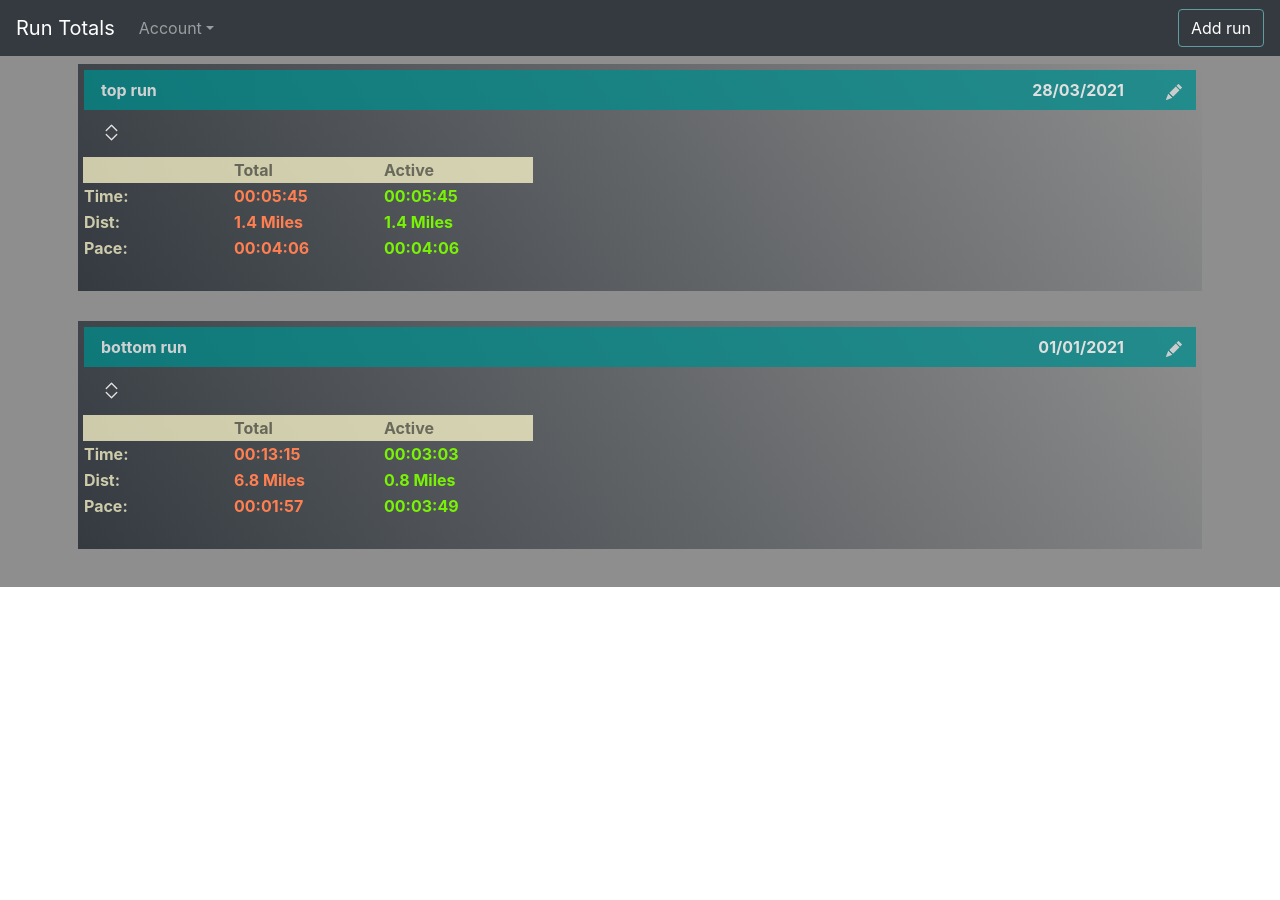
Runs Main: Edit run › Modal functionality › can edit the run description
Click the button named "Edit Run" next to "28/03/2021" at (1174, 90), box [1154,72,1194,108]
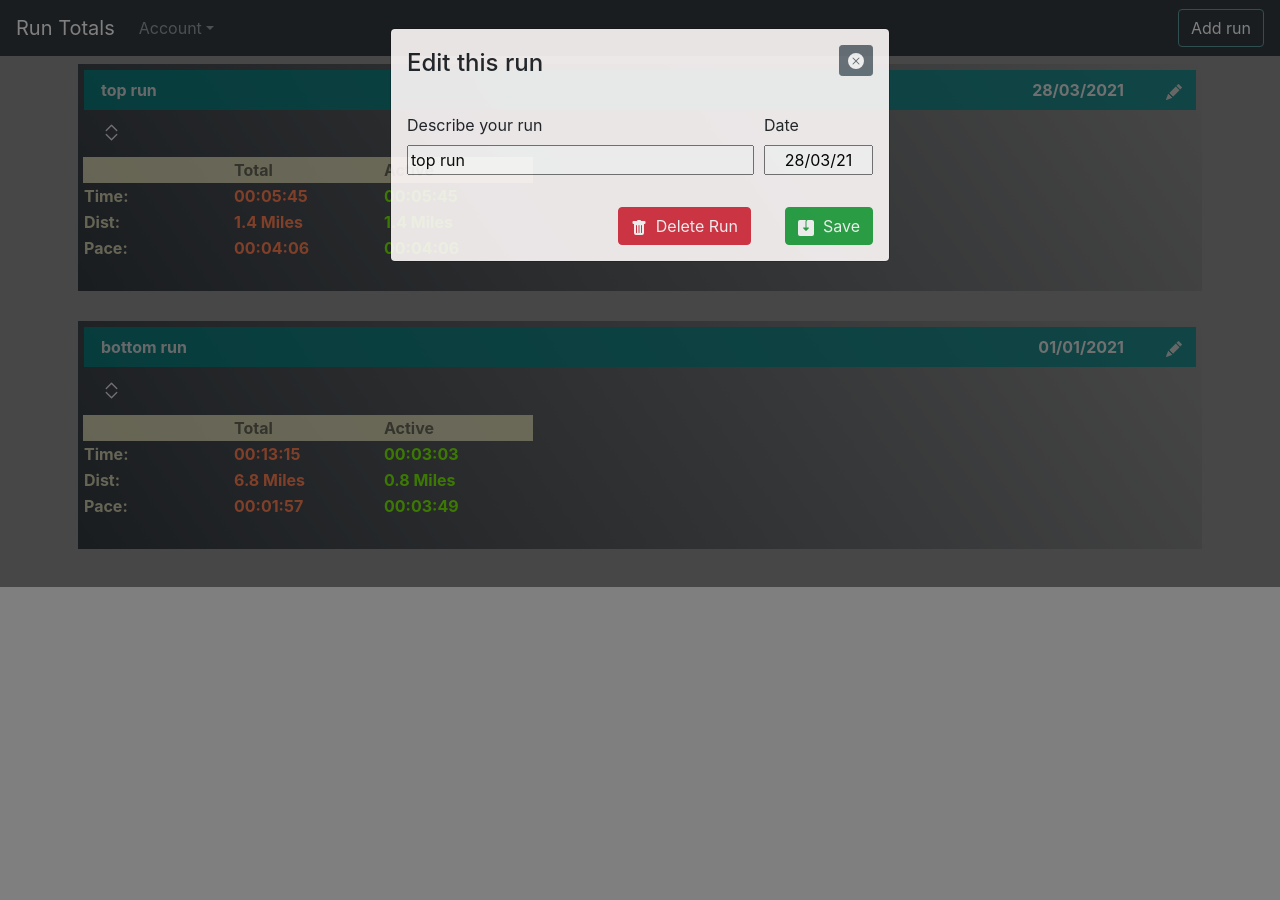
Type " updated" into the field with test id "edit-run-description-input" at (580, 160), box [407,145,754,175]
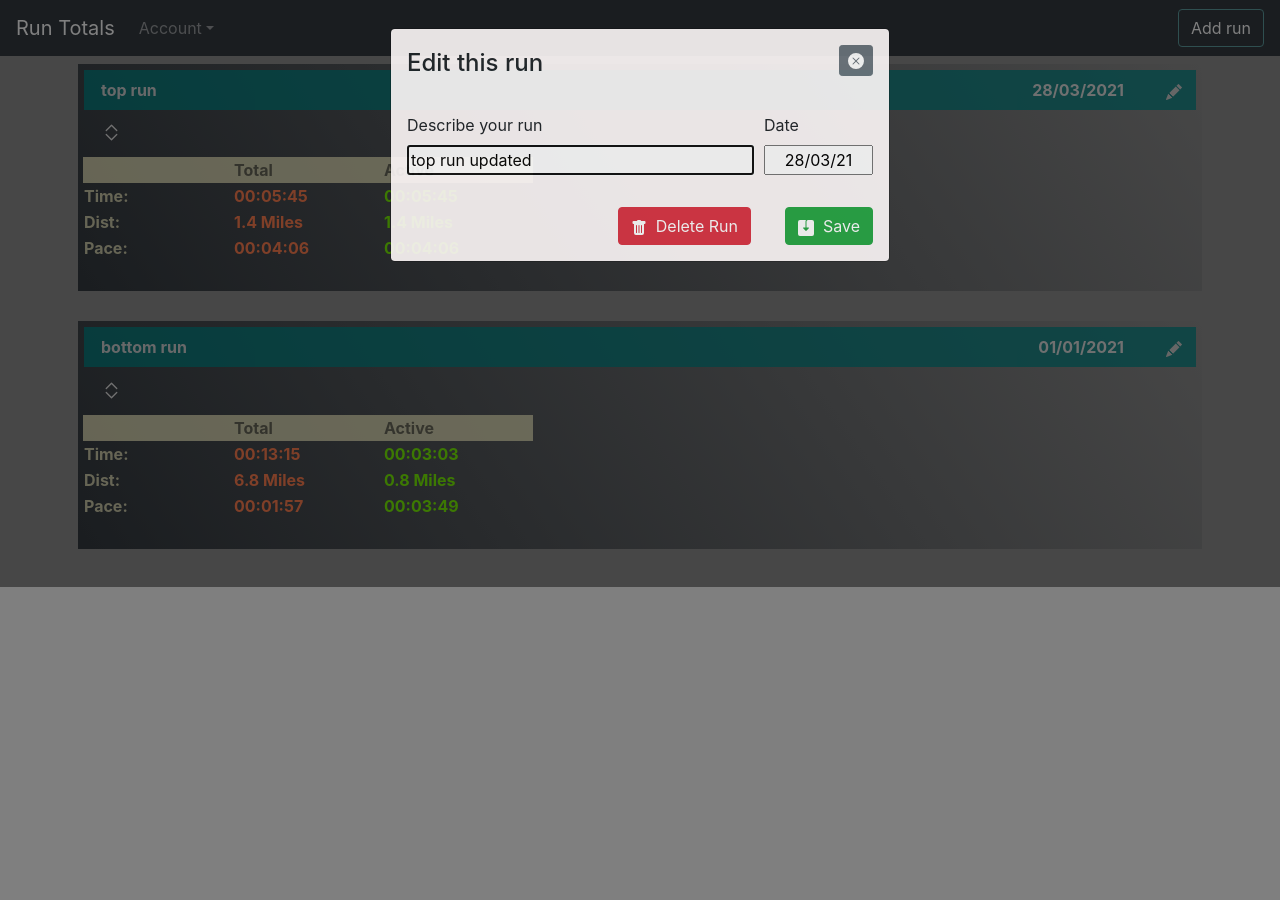
Now the field with test id "edit-run-description-input" holds "top run updated", box [407,145,754,175]
